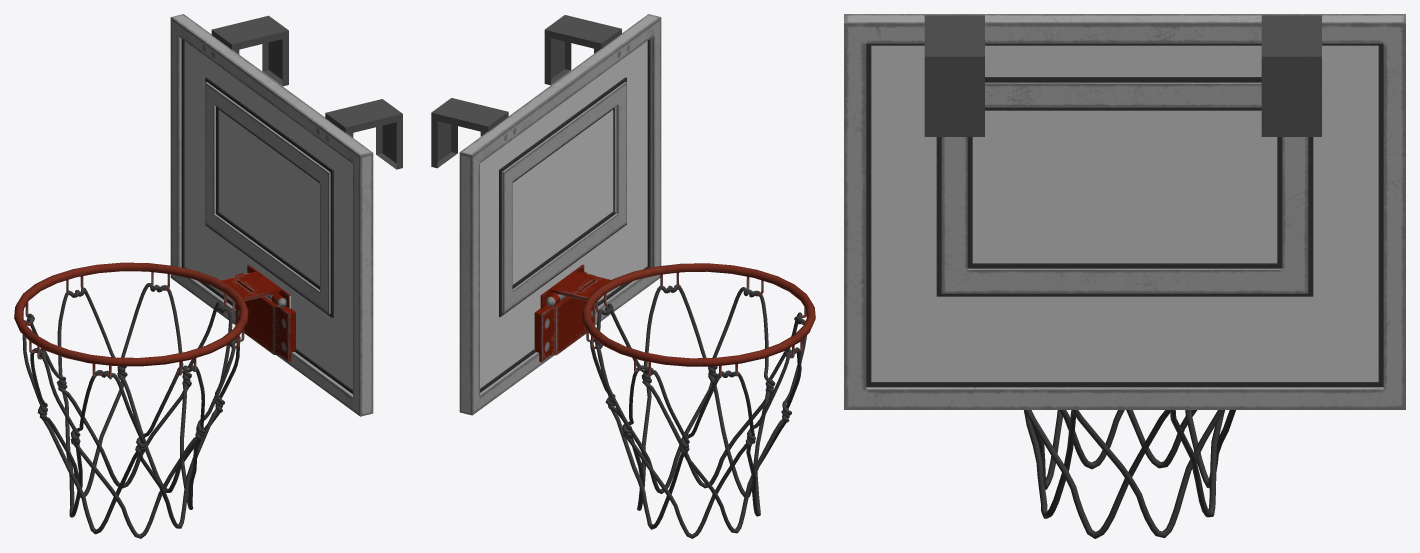
The model's file is SM_BasketBallHoop.fbx.
The picture shows the model from 3 angles, left to right: view 1: azimuth 30°, elevation 25°; view 2: azimuth 150°, elevation 25°; view 3: azimuth 270°, elevation 25°; orthographic projection. The views are drawn at different scales.
Visible parts, largest first — view 1: SM_BasketBallHoop_LOD0; view 2: SM_BasketBallHoop_LOD0; view 3: SM_BasketBallHoop_LOD0.
Boxes of the visible parts, bbox=[...] form: SM_BasketBallHoop_LOD0: bbox=[14, 14, 402, 538]; SM_BasketBallHoop_LOD0: bbox=[431, 14, 815, 538]; SM_BasketBallHoop_LOD0: bbox=[844, 14, 1405, 538].
Size of the model in its own units: 42.21 by 45.46 by 53.01.
